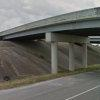Bridge: (4, 10, 97, 65)
